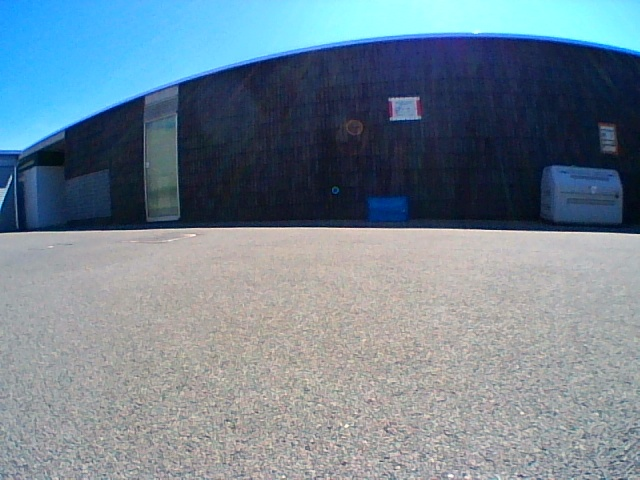blue_box: (367, 197, 405, 220)
